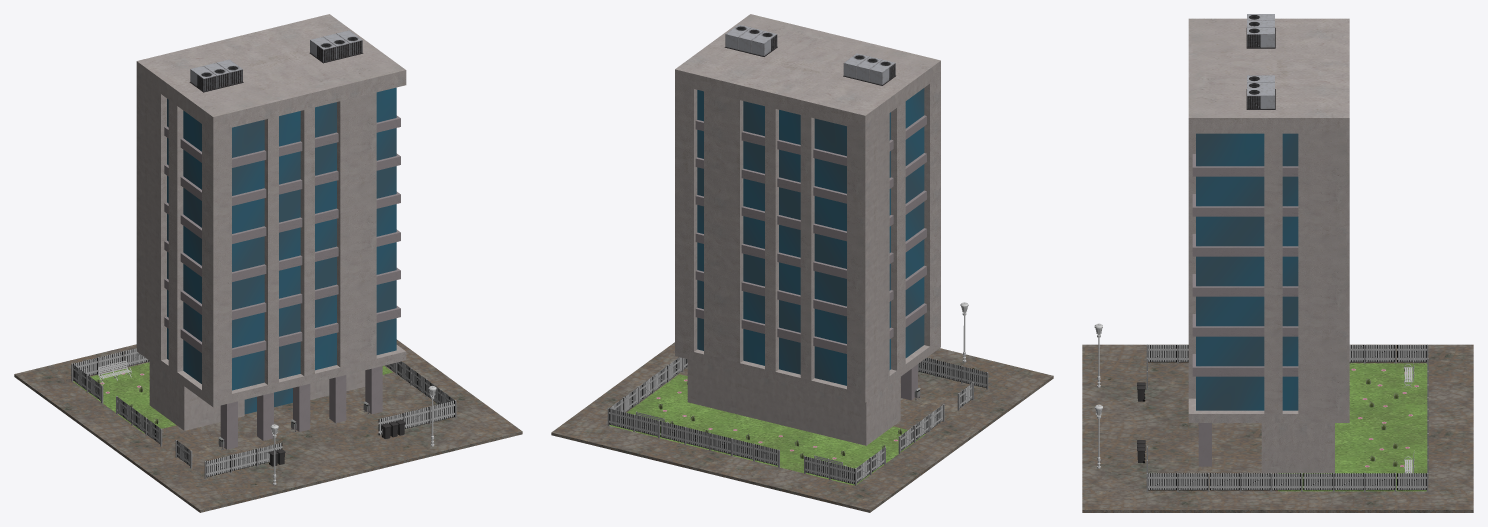
Rendered from house_big02.fbx.
3 views of the same model, side by side, from view 1: azimuth 30°, elevation 25°; view 2: azimuth 150°, elevation 25°; view 3: azimuth 270°, elevation 25° (orthographic). The views are drawn at different scales.
Visible parts, largest first — view 1: house_big02; view 2: house_big02; view 3: house_big02.
Boxes of the visible parts, x1,y1,x2,y2 form: house_big02: (14,14,522,512); house_big02: (551,14,1053,512); house_big02: (1082,14,1473,512).
Size of the model in its own units: 2500 by 2643 by 2497.
